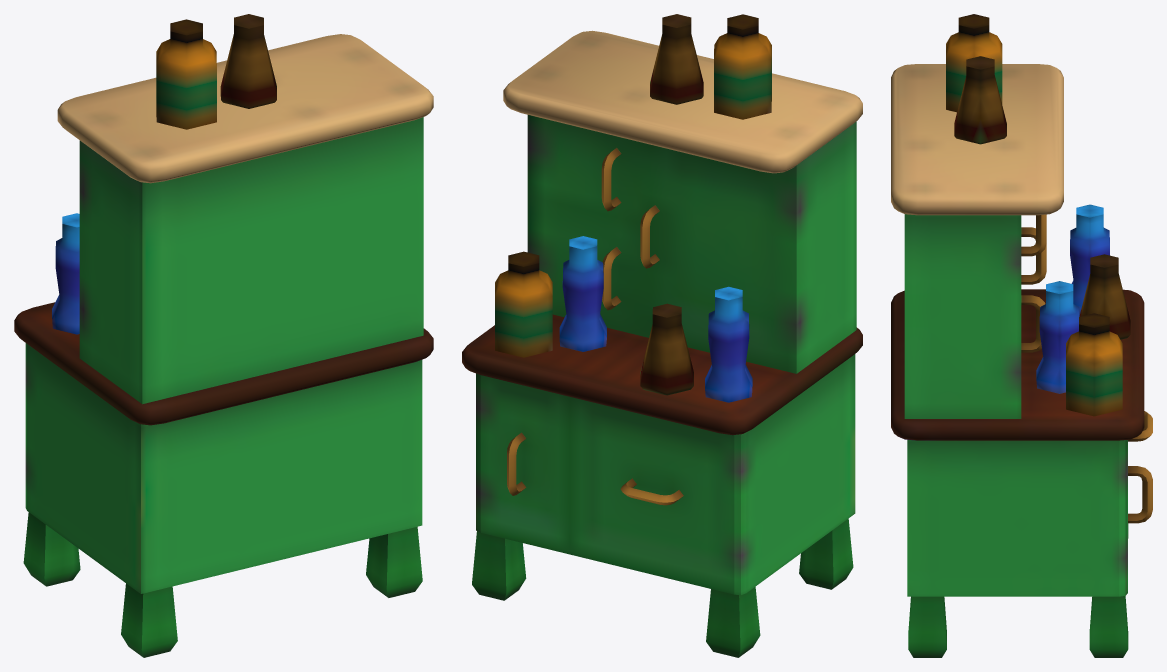
File: Kitchen_Cupborad_03.gltf
3 views of the same model, side by side, from view 1: azimuth 30°, elevation 25°; view 2: azimuth 150°, elevation 25°; view 3: azimuth 270°, elevation 25° (orthographic). The views are drawn at different scales.
Visible parts, largest first — view 1: Kitchen_Cupborad_03; view 2: Kitchen_Cupborad_03; view 3: Kitchen_Cupborad_03.
Boxes of the visible parts, x1,y1,x2,y2 form: Kitchen_Cupborad_03: (14,14,433,657); Kitchen_Cupborad_03: (462,14,862,657); Kitchen_Cupborad_03: (891,14,1152,657).
Size of the model in its own units: 39.54 by 73.71 by 31.95.
1 material, 1 textured.
